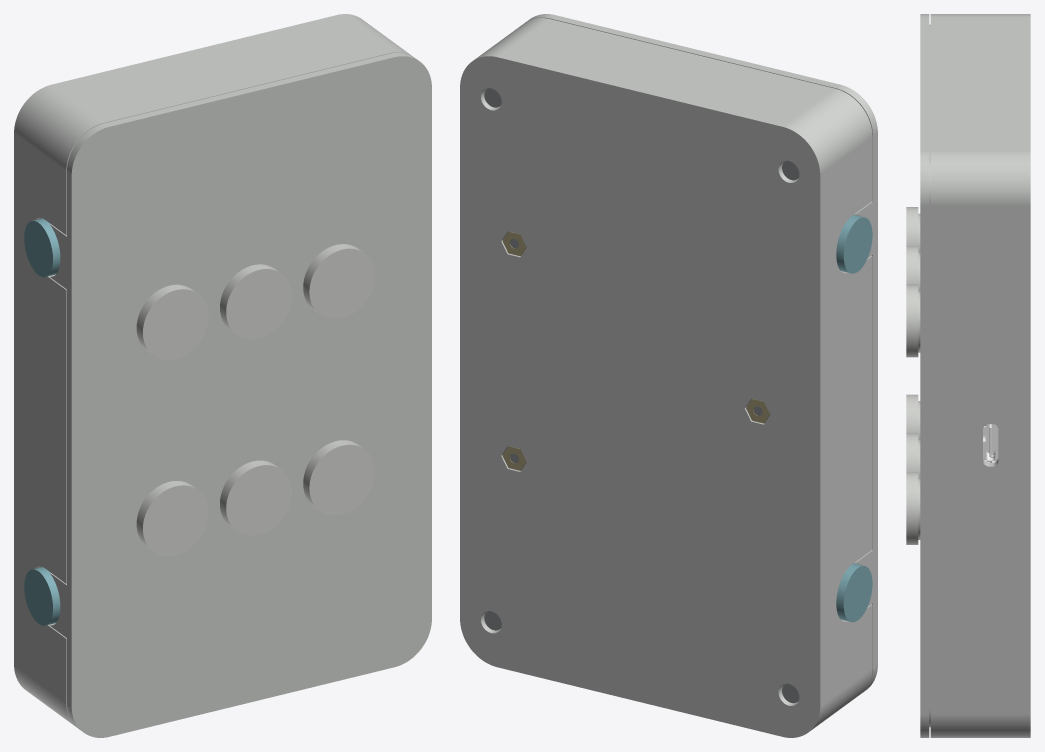
The model's file is assembly-S14.glb.
The picture shows the model from 3 angles, left to right: view 1: azimuth 30°, elevation 25°; view 2: azimuth 150°, elevation 25°; view 3: azimuth 270°, elevation 25°; orthographic projection. The views are drawn at different scales.
Parts seen in each view (by area): view 1: lid, base, cap_6, cap_4, cap_3, cap_1, cap_2, cap_5, side_cap_0, side_cap_1; view 2: base, lid, side_cap_0, side_cap_1; view 3: base, lid, cap_6, cap_3, cap_2, cap_1, cap_5, cap_4, STEP_part_672.
Part boxes in pixels (box(x1,y1,x2,y2)): lid: box(49, 52, 431, 737); base: box(14, 14, 412, 726); cap_6: box(303, 244, 375, 319); cap_4: box(136, 284, 208, 359); cap_3: box(303, 440, 375, 515); cap_1: box(136, 481, 208, 555); cap_2: box(220, 460, 291, 535); cap_5: box(220, 264, 291, 339); side_cap_0: box(24, 567, 60, 625); side_cap_1: box(24, 218, 60, 277); base: box(460, 18, 872, 737); lid: box(526, 14, 877, 692); side_cap_0: box(836, 563, 872, 622); side_cap_1: box(836, 215, 872, 273); base: box(930, 14, 1030, 737); lid: box(920, 14, 930, 737); cap_6: box(906, 284, 920, 357); cap_3: box(906, 472, 920, 544); cap_2: box(906, 433, 920, 478); cap_1: box(906, 394, 920, 439); cap_5: box(906, 246, 920, 291); cap_4: box(906, 207, 920, 252); STEP_part_672: box(985, 424, 995, 461).
Bounding box in the file's own units: 0.0881 × 0.14 × 0.027.
